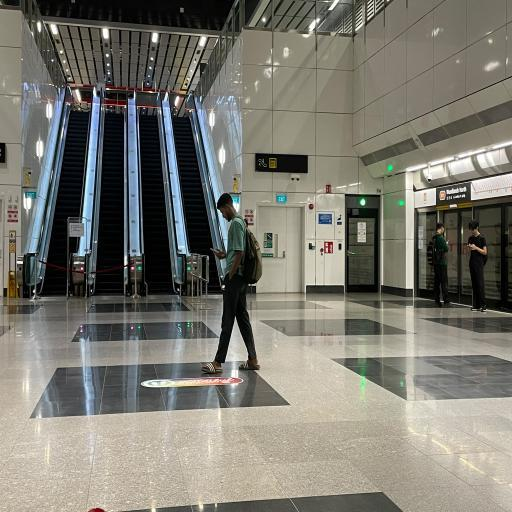person_left: (204, 193, 264, 379)
